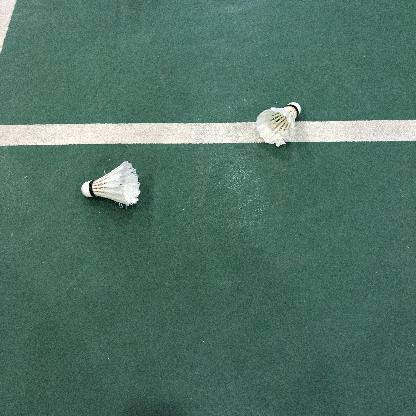ball_single: (81, 161, 141, 206), (255, 102, 301, 147)
